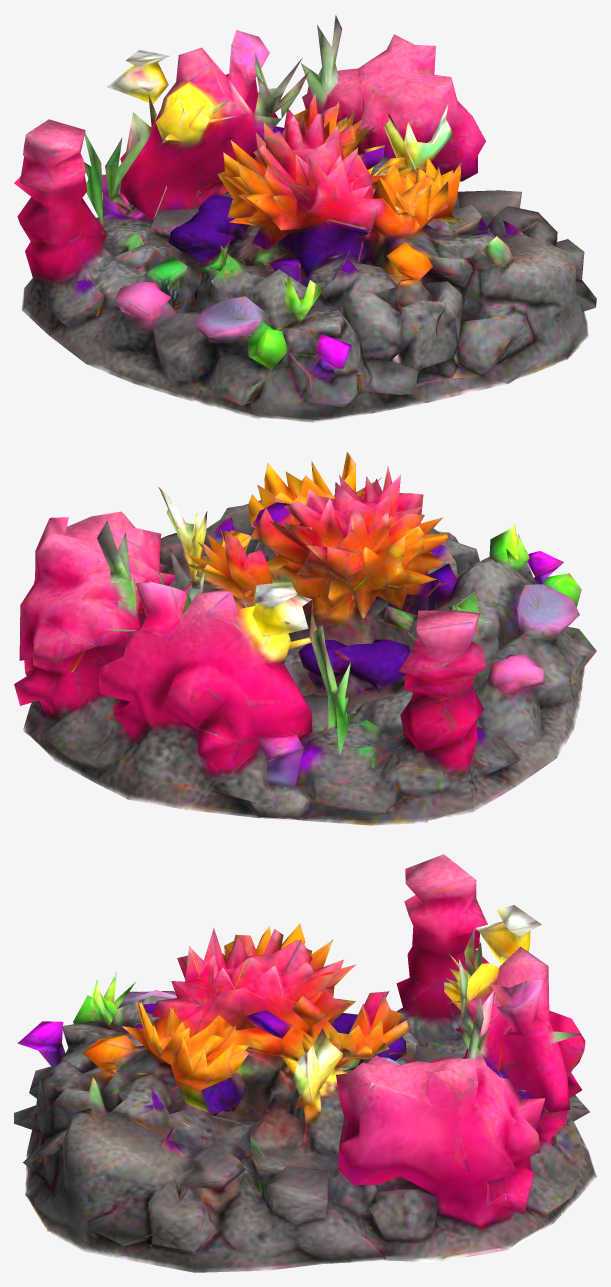
File: deco_coral_garden.glb
The picture shows the model from 3 angles, top to bottom: view 1: azimuth 30°, elevation 25°; view 2: azimuth 150°, elevation 25°; view 3: azimuth 270°, elevation 25°; orthographic projection. The views are drawn at different scales.
Visible parts, largest first — view 1: Mesh_0; view 2: Mesh_0; view 3: Mesh_0.
Boxes of the visible parts, <box> form: Mesh_0: <box>14,15,596,422</box>; Mesh_0: <box>14,452,596,825</box>; Mesh_0: <box>14,854,596,1272</box>.
Bounding box in the file's own units: 1.81 × 0.7944 × 1.91.
Materials: 1 (1 with a texture image).
